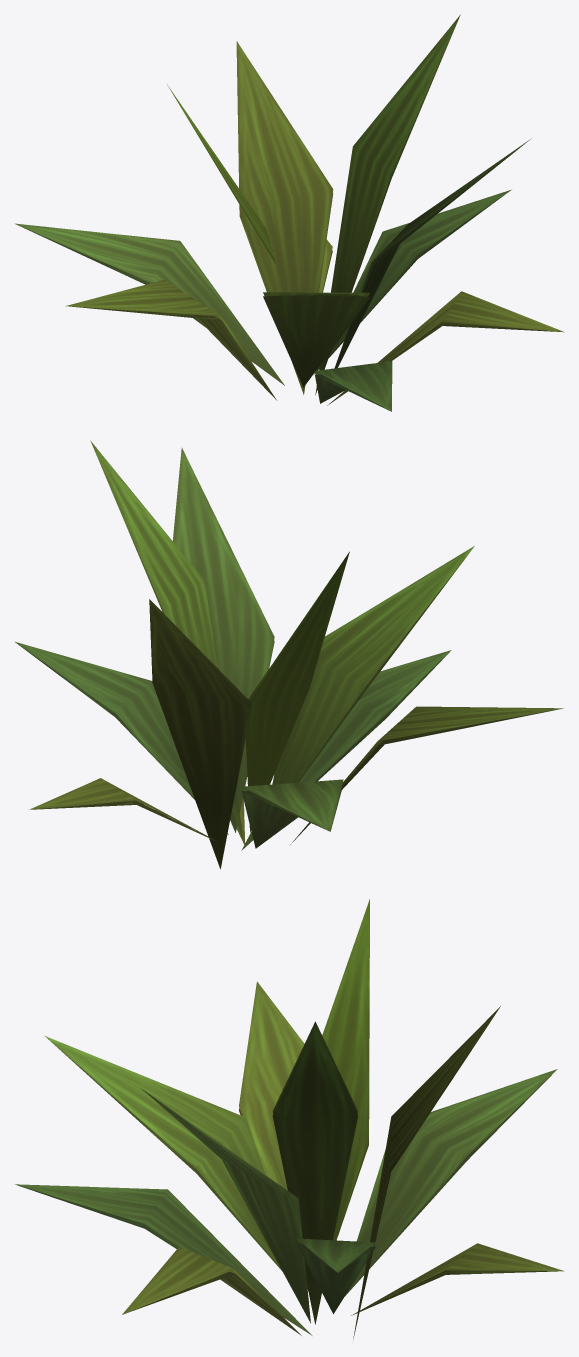
The model's file is grass1_3.FBX.
3 views of the same model, one above another, from view 1: azimuth 30°, elevation 25°; view 2: azimuth 150°, elevation 25°; view 3: azimuth 270°, elevation 25° (orthographic). The views are drawn at different scales.
Visible parts, largest first — view 1: grass1_3; view 2: grass1_3; view 3: grass1_3.
Boxes of the visible parts, bbox=[...] form: grass1_3: bbox=[15, 14, 564, 411]; grass1_3: bbox=[14, 440, 563, 869]; grass1_3: bbox=[15, 899, 564, 1340].
Size of the model in its own units: 53.33 by 37.87 by 47.62.
1 material, 1 textured.
